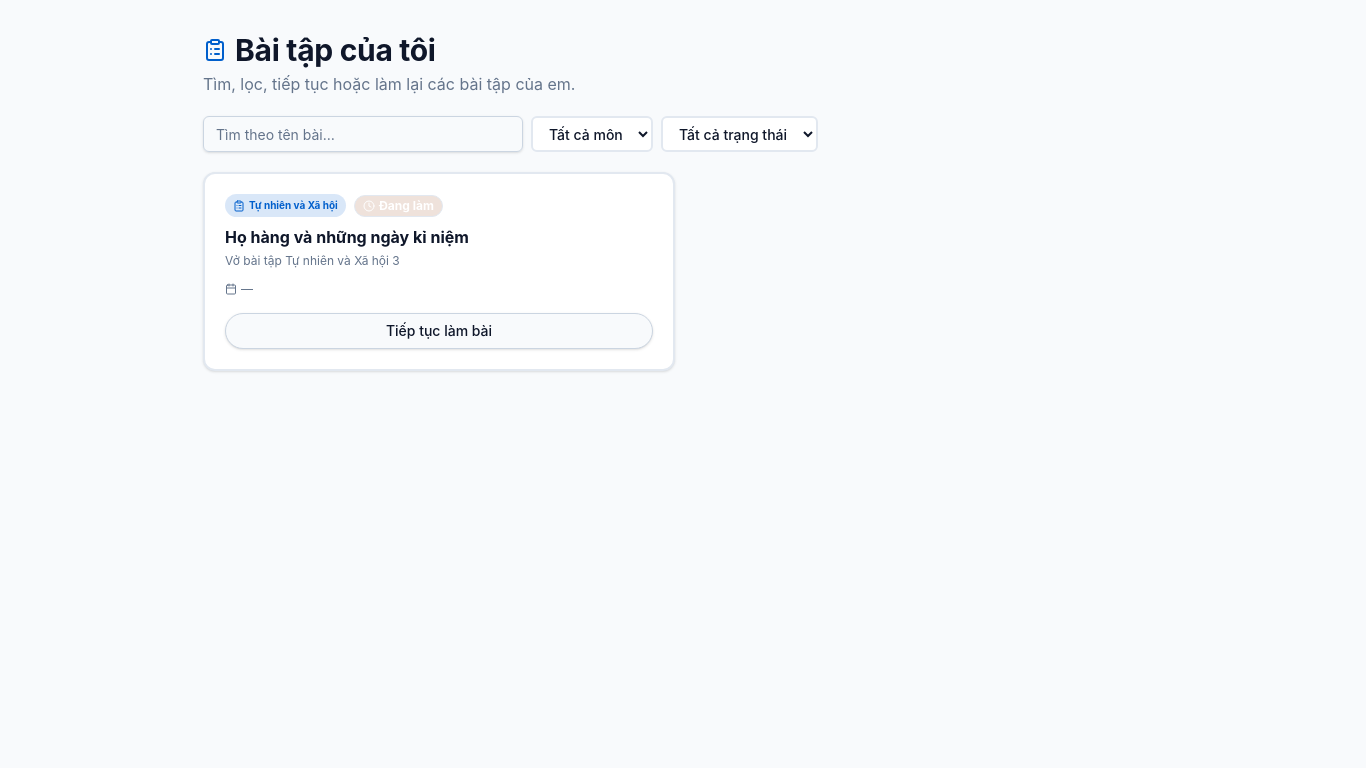
Scenario: StudentSbtExercisesPage — 'Tiếp tục' chỉ 1 lượt (row 50) › mở picker chỉ hiển thị lượt làm dở mới nhất
This screenshot has width=1366, height=768.
Step 1. Click the button "Tiếp tục làm bài" → (439, 331), box x1=225 y1=313 x2=653 y2=349
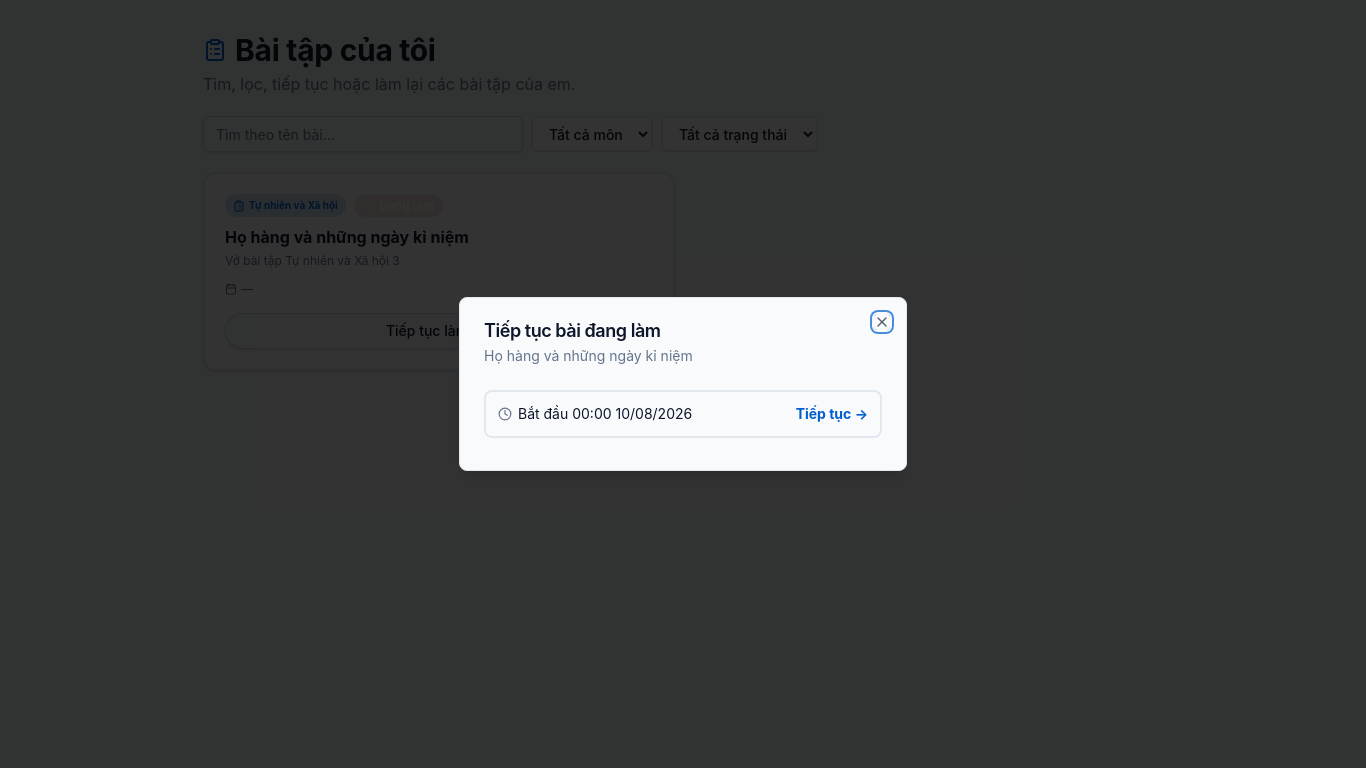
expect the text "Bắt đầu 00:00 10/08/2026" is shown once: met, box x1=498 y1=404 x2=692 y2=424
